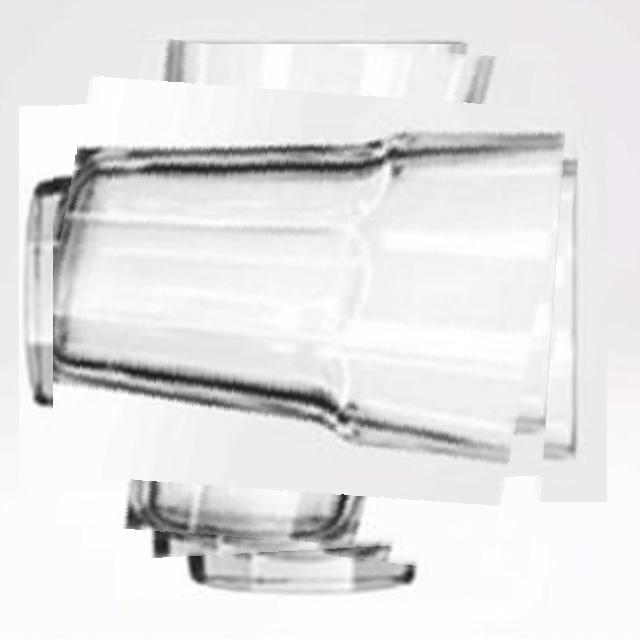recyclable: (53, 44, 573, 565)
